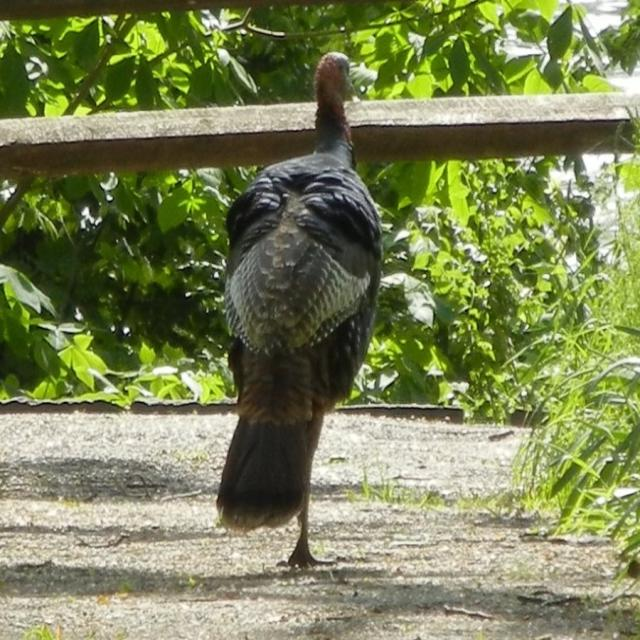bird: (199, 50, 400, 586)
